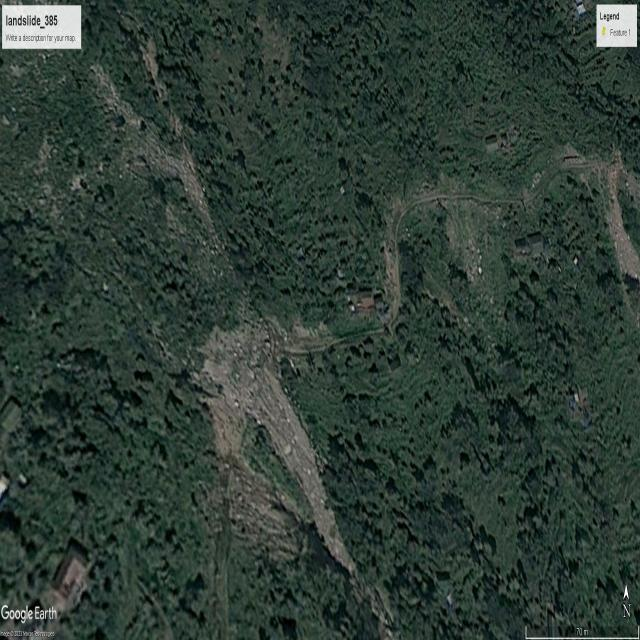Landslide: (216, 352, 359, 582)
